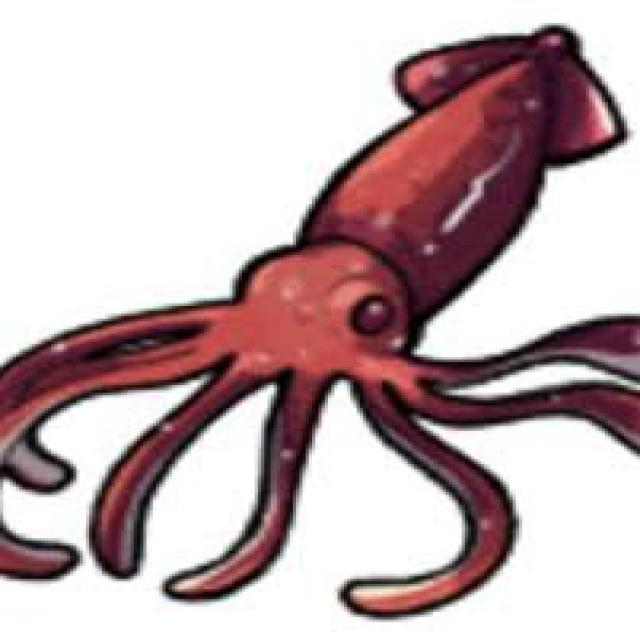squid: (0, 25, 637, 612)
